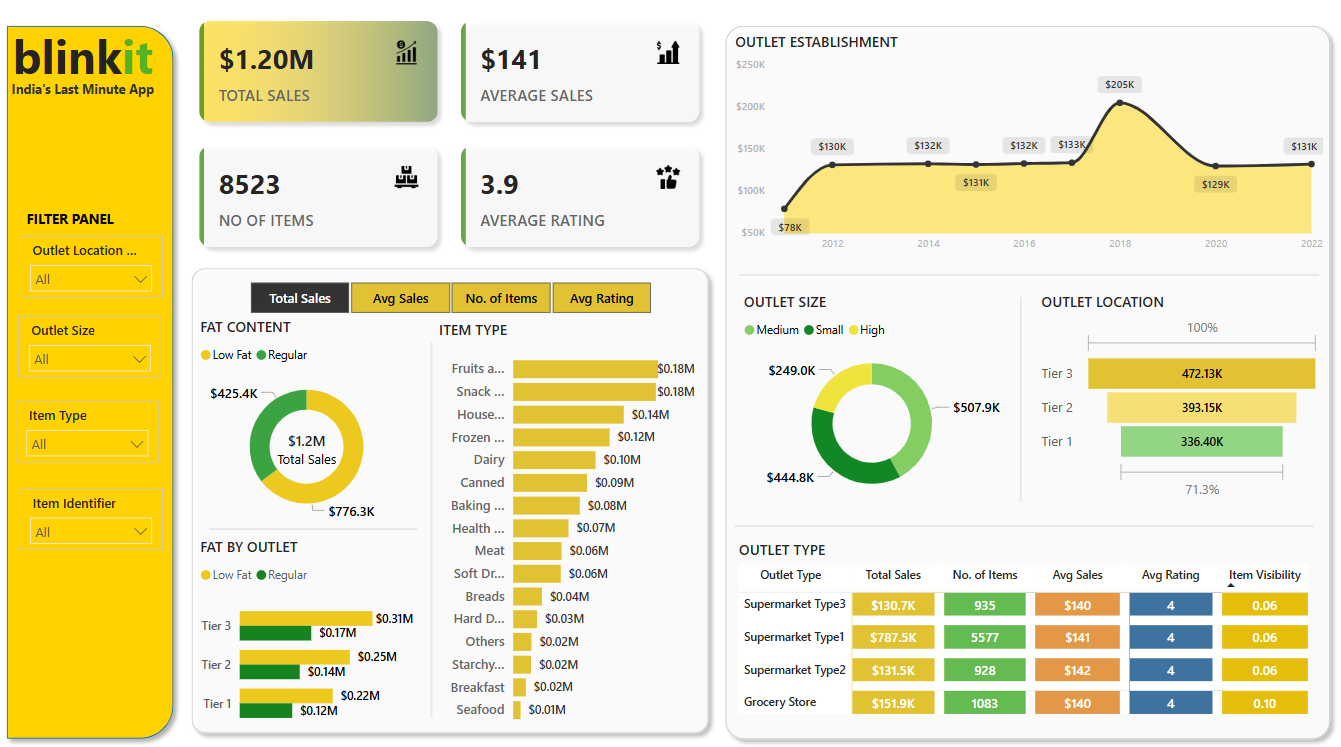

What the dashboard file says about the page in this screenshot:
{"tool":"powerbi","page":{"name":"Page 1","canvas":[1400,800],"ordinal":0},"visuals":[{"type":"shape","box":[0,25.5,190.9,756.9],"z":0,"group":"g1"},{"type":"shape","box":[191.7,277.5,553.6,500],"z":0},{"type":"shape","box":[745.3,25.5,644.8,757.4],"z":1000},{"type":"textbox","box":[10.3,27.8,170.5,76.7],"z":1000,"group":"g1"},{"type":"cardVisual","fields":{"Data":["BlinkIT Grocery Data.Total Sales"]},"box":[269.4,438.3,101.9,61.7],"z":2000},{"type":"cardVisual","fields":{"Data":["BlinkIT Grocery Data.Total Sales","BlinkIT Grocery Data.Avg Sales","BlinkIT Grocery Data.No. of Items","BlinkIT Grocery Data.Avg Rating"]},"box":[191.7,13.4,553.6,268.1],"z":3000},{"type":"textbox","box":[9,86.3,170.5,29.9],"z":3000,"group":"g1"},{"type":"group","id":"g1","title":"Group 1","box":[0,25.5,190.3,756],"z":4000},{"type":"donutChart","title":"FAT CONTENT","fields":{"Y":["BlinkIT Grocery Data.Total Sales"],"Category":["BlinkIT Grocery Data.Item Fat Content"]},"box":[205.1,336.5,230.6,221.2],"z":5000},{"type":"slicer","fields":{"Values":["Metrics.Metrics"]},"box":[235.9,293.6,465.1,45.6],"z":6000},{"type":"shape","box":[768.1,282.8,600.5,21.4],"z":7000},{"type":"clusteredBarChart","title":"FAT BY OUTLET","fields":{"Y":["BlinkIT Grocery Data.Total Sales"],"Category":["BlinkIT Grocery Data.Outlet Location Type"],"Series":["BlinkIT Grocery Data.Item Fat Content"]},"box":[205.1,564.3,230.6,210.5],"z":8000},{"type":"shape","box":[218.5,546.9,215.8,20.1],"z":9000},{"type":"barChart","title":"ITEM TYPE","fields":{"Y":["BlinkIT Grocery Data.Total Sales"],"Category":["BlinkIT Grocery Data.Item Type"]},"box":[451.7,339.1,274.8,429],"z":10000},{"type":"lineChart","title":"OUTLET ESTABLISHMENT","fields":{"Y":["BlinkIT Grocery Data.Total Sales"],"Category":["BlinkIT Grocery Data.Outlet Establishment Year"]},"box":[758.7,41.6,619.3,235.9],"z":11000},{"type":"shape","box":[1052.3,316.4,16.1,211.8],"z":12000},{"type":"donutChart","title":"OUTLET SIZE","fields":{"Y":["BlinkIT Grocery Data.Total Sales"],"Category":["BlinkIT Grocery Data.Outlet Size"]},"box":[768,311,275,225],"z":13000},{"type":"shape","box":[437,363.3,25.5,388.7],"z":14000},{"type":"funnel","title":"OUTLET LOCATION","fields":{"Y":["Sum(BlinkIT Grocery Data.Sales)"],"Category":["BlinkIT Grocery Data.Outlet Location Type"]},"box":[1076.4,311,298.9,219.8],"z":15000},{"type":"shape","box":[762.7,542.9,600.5,21.4],"z":16000},{"type":"pivotTable","title":"OUTLET TYPE","fields":{"Rows":["BlinkIT Grocery Data.Outlet Type"],"Values":["BlinkIT Grocery Data.Total Sales","BlinkIT Grocery Data.No. of Items","BlinkIT Grocery Data.Avg Sales","BlinkIT Grocery Data.Avg Rating","Avg(BlinkIT Grocery Data.Item Visibility)"]},"box":[762.7,567,609.9,198.4],"z":17000},{"type":"slicer","fields":{"Values":["BlinkIT Grocery Data.Outlet Location Type"]},"box":[21.4,252,148.8,64.3],"z":18000},{"type":"slicer","fields":{"Values":["BlinkIT Grocery Data.Outlet Size"]},"box":[20.1,335.1,148.8,64.3],"z":19000},{"type":"slicer","fields":{"Values":["BlinkIT Grocery Data.Item Type"]},"box":[18.8,423.6,148.8,64.3],"z":20000},{"type":"textbox","box":[24.1,219.8,116.6,32.2],"z":21000},{"type":"slicer","fields":{"Values":["BlinkIT Grocery Data.Item Identifier"]},"box":[21.4,514.7,148.8,64.3],"z":22000}]}

Visuals, with their boxes in screenshot pixels (x1, y1, x2, y2), scaled from the page's 1400x800 canvas onto the 1341x747 screenshot:
shape: <bbox>0, 24, 183, 731</bbox>
shape: <bbox>184, 259, 714, 726</bbox>
shape: <bbox>714, 24, 1332, 731</bbox>
textbox: <bbox>10, 26, 173, 98</bbox>
cardVisual - BlinkIT Grocery Data.Total Sales: <bbox>258, 409, 356, 467</bbox>
cardVisual - BlinkIT Grocery Data.Total Sales x BlinkIT Grocery Data.Avg Sales: <bbox>184, 13, 714, 263</bbox>
textbox: <bbox>9, 81, 172, 109</bbox>
"Group 1" group: <bbox>0, 24, 182, 730</bbox>
"FAT CONTENT" donutChart: <bbox>196, 314, 417, 521</bbox>
slicer - Metrics.Metrics: <bbox>226, 274, 671, 317</bbox>
shape: <bbox>736, 264, 1311, 284</bbox>
"FAT BY OUTLET" clusteredBarChart: <bbox>196, 527, 417, 723</bbox>
shape: <bbox>209, 511, 416, 529</bbox>
"ITEM TYPE" barChart: <bbox>433, 317, 696, 717</bbox>
"OUTLET ESTABLISHMENT" lineChart: <bbox>727, 39, 1320, 259</bbox>
shape: <bbox>1008, 295, 1023, 493</bbox>
"OUTLET SIZE" donutChart: <bbox>736, 290, 999, 500</bbox>
shape: <bbox>419, 339, 443, 702</bbox>
"OUTLET LOCATION" funnel: <bbox>1031, 290, 1317, 496</bbox>
shape: <bbox>731, 507, 1306, 527</bbox>
"OUTLET TYPE" pivotTable: <bbox>731, 529, 1315, 715</bbox>
slicer - BlinkIT Grocery Data.Outlet Location Type: <bbox>20, 235, 163, 295</bbox>
slicer - BlinkIT Grocery Data.Outlet Size: <bbox>19, 313, 162, 373</bbox>
slicer - BlinkIT Grocery Data.Item Type: <bbox>18, 396, 161, 456</bbox>
textbox: <bbox>23, 205, 135, 235</bbox>
slicer - BlinkIT Grocery Data.Item Identifier: <bbox>20, 481, 163, 541</bbox>
